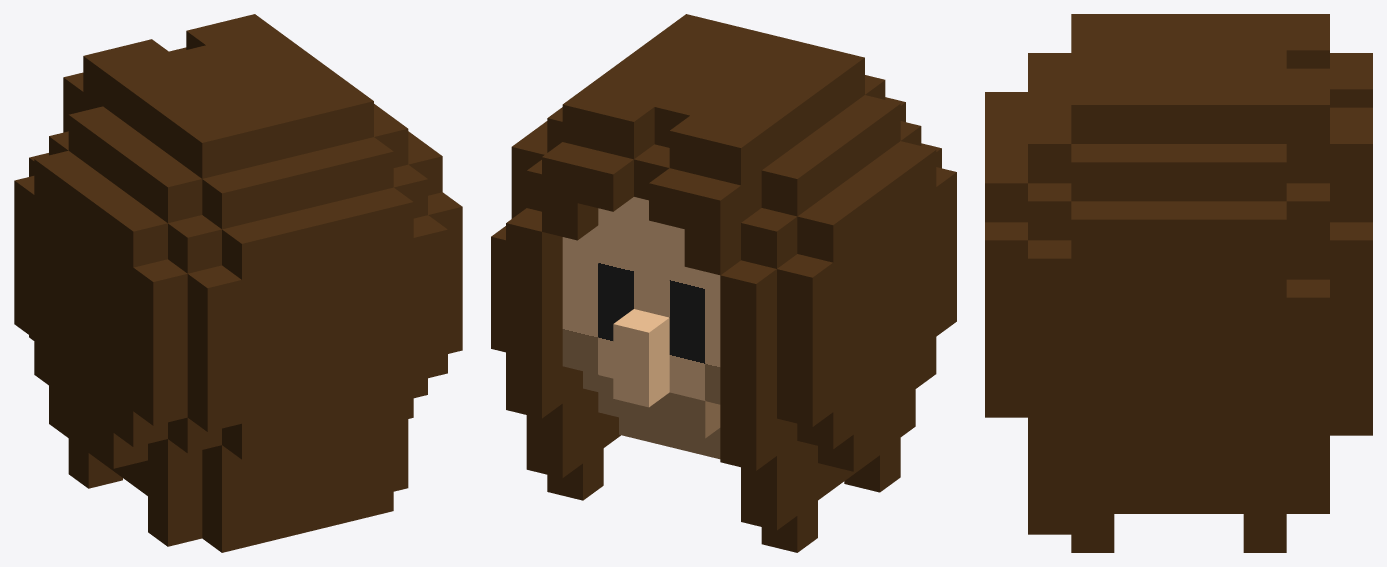
File: player_head.dae
The picture shows the model from 3 angles, left to right: view 1: azimuth 30°, elevation 25°; view 2: azimuth 150°, elevation 25°; view 3: azimuth 270°, elevation 25°; orthographic projection. The views are drawn at different scales.
Parts seen in each view (by area): view 1: player_head; view 2: player_head; view 3: player_head.
Part boxes in pixels (x1=…): player_head: x1=14, y1=14, x2=462, y2=552; player_head: x1=491, y1=14, x2=956, y2=552; player_head: x1=985, y1=14, x2=1372, y2=552.
Size of the model in its own units: 0.9 by 0.9 by 1.1.
1 material, 1 textured.
